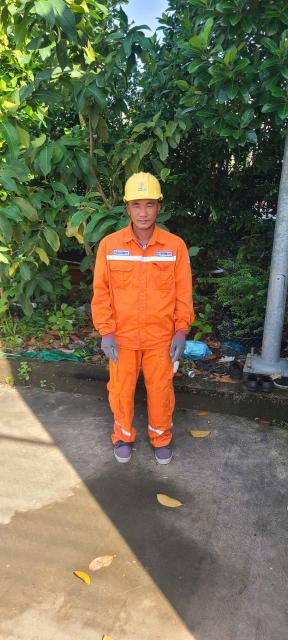gloves: (89, 331, 122, 368), (170, 319, 189, 375)
helmet: (111, 169, 168, 208)
shoes: (105, 429, 136, 474), (151, 431, 174, 476)
